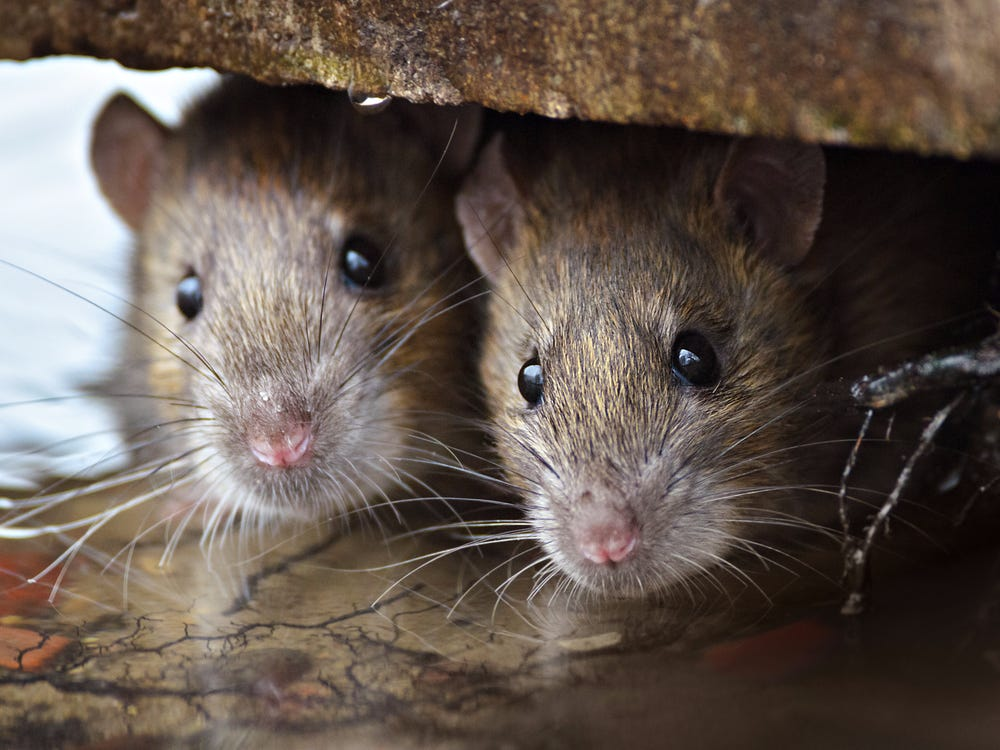rat: (5, 68, 500, 610), (434, 80, 866, 646)
